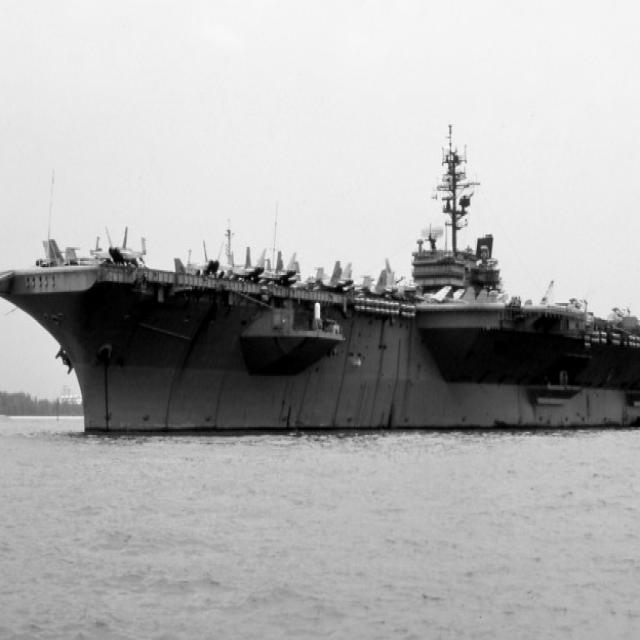Portanaves: (1, 113, 640, 442)
